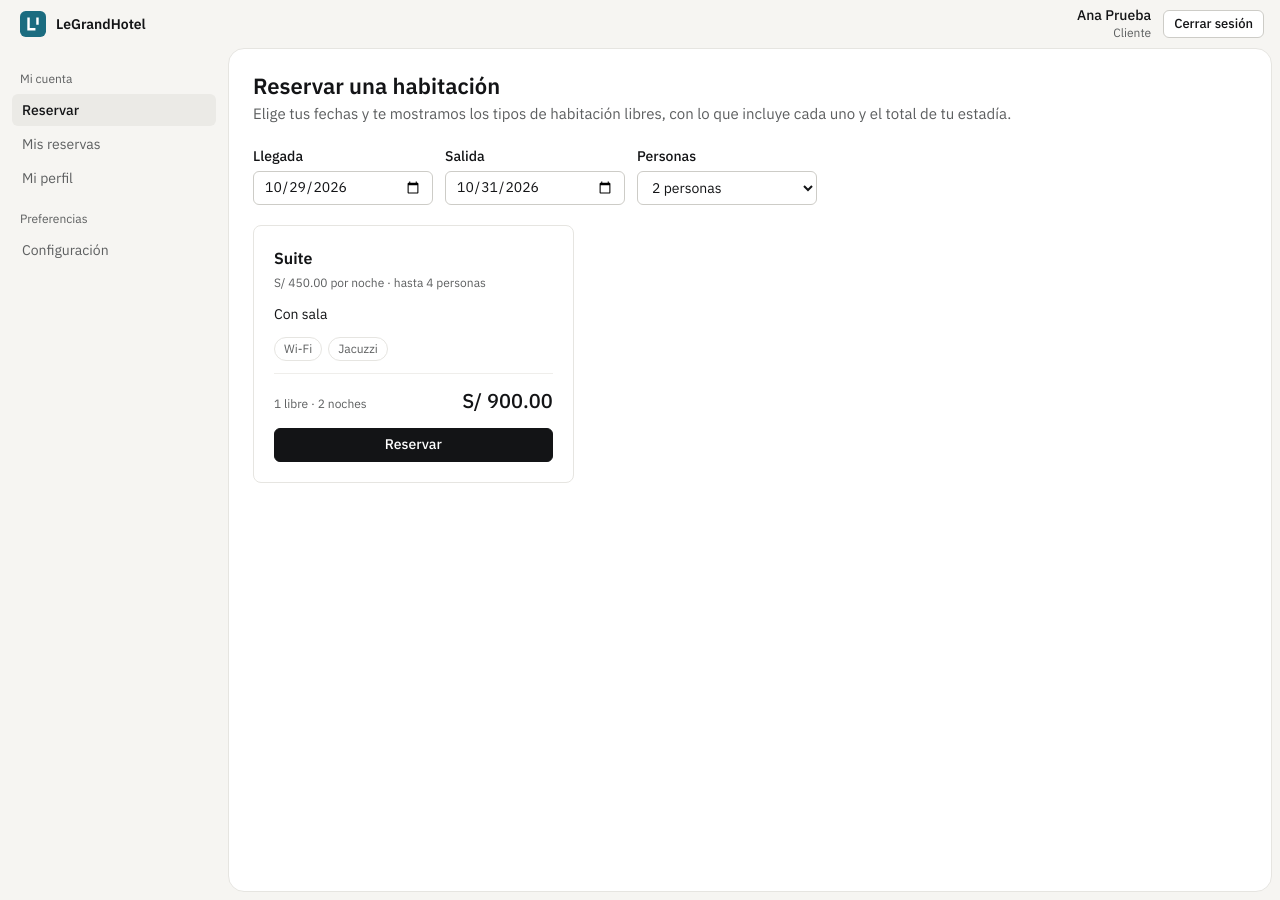
Test case: cliente con Google › al reservar con el perfil completo avisa a nombre de quién queda
Click the button "Reservar". click: (413, 445)
box: [274, 428, 553, 462]
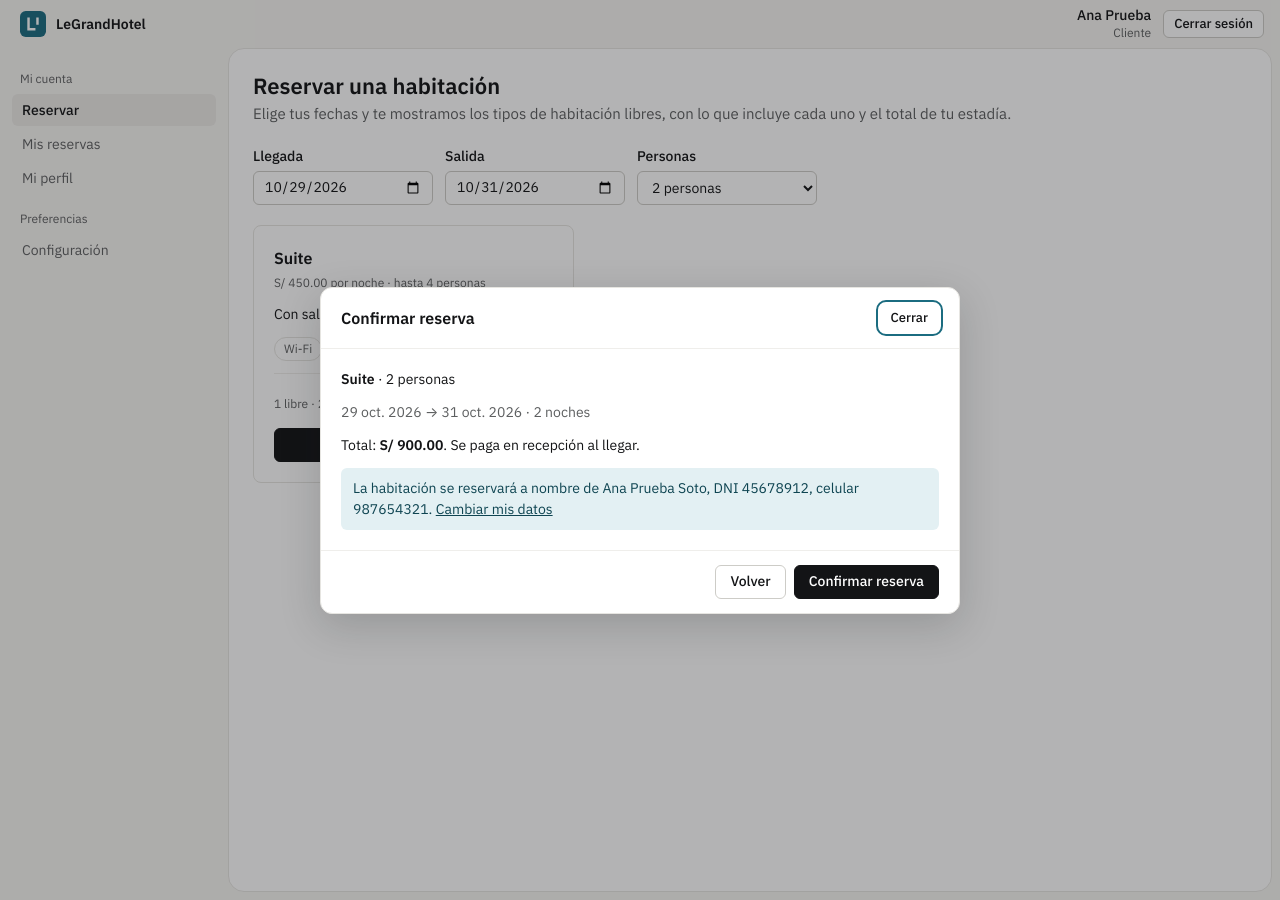
Now the text "a nombre de Ana Prueba Soto, DNI 45678912, celular 987654321" is shown, box [353, 478, 859, 518]
